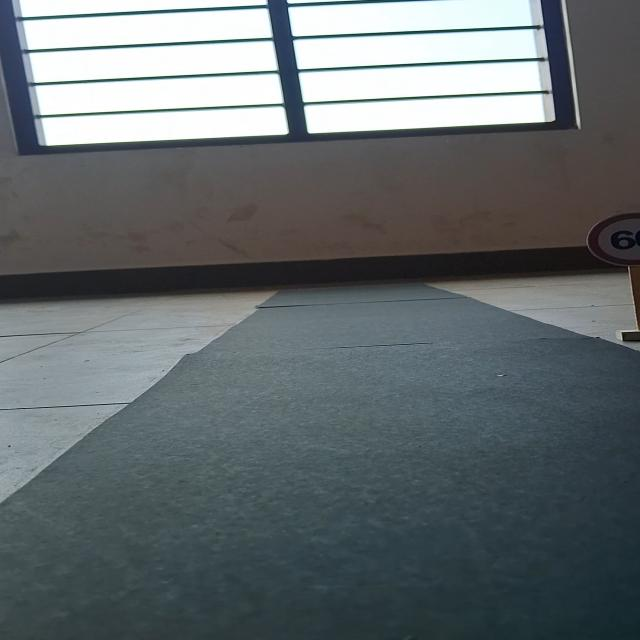Speed60: (583, 213, 640, 268)
